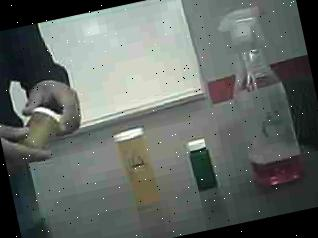Bottle A: (109, 120, 173, 216)
Bottle B: (8, 100, 78, 162)
Bottle C: (183, 133, 227, 199)
hazard: (210, 0, 318, 200)
